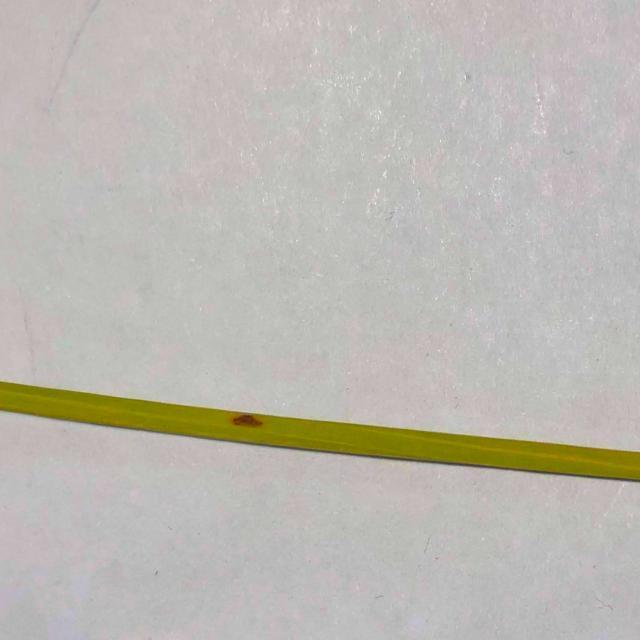Blast: (227, 415, 267, 433)
